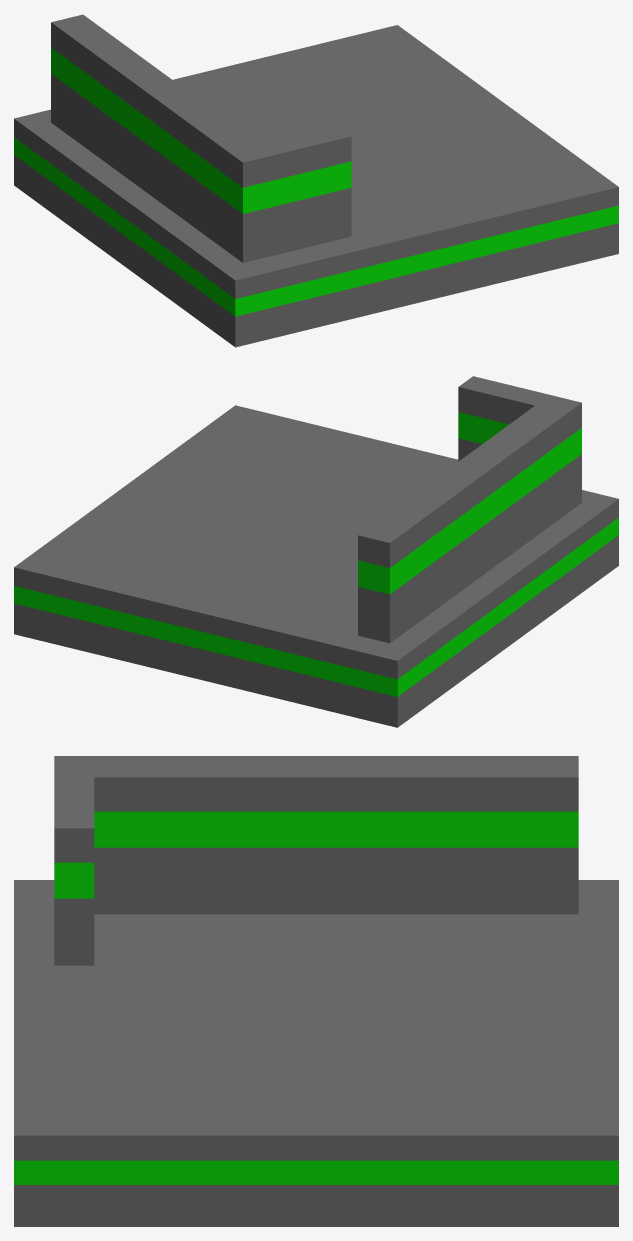
The model's file is Sm_BigPlatform_RightRail.fbx.
3 renders of one model, top to bottom at view 1: azimuth 30°, elevation 25°; view 2: azimuth 150°, elevation 25°; view 3: azimuth 270°, elevation 25°, orthographic. The views are drawn at different scales.
Parts seen in each view (by area): view 1: pCube1, pCube2; view 2: pCube1, pCube2; view 3: pCube1, pCube2.
Part boxes in pixels (box(x1,y1,x2,y2)): pCube1: box(14, 25, 618, 347); pCube2: box(51, 14, 351, 262); pCube1: box(14, 405, 618, 727); pCube2: box(358, 376, 581, 643); pCube1: box(14, 880, 618, 1226); pCube2: box(54, 756, 578, 965).
Size of the model in its own units: 300 by 126 by 300.
